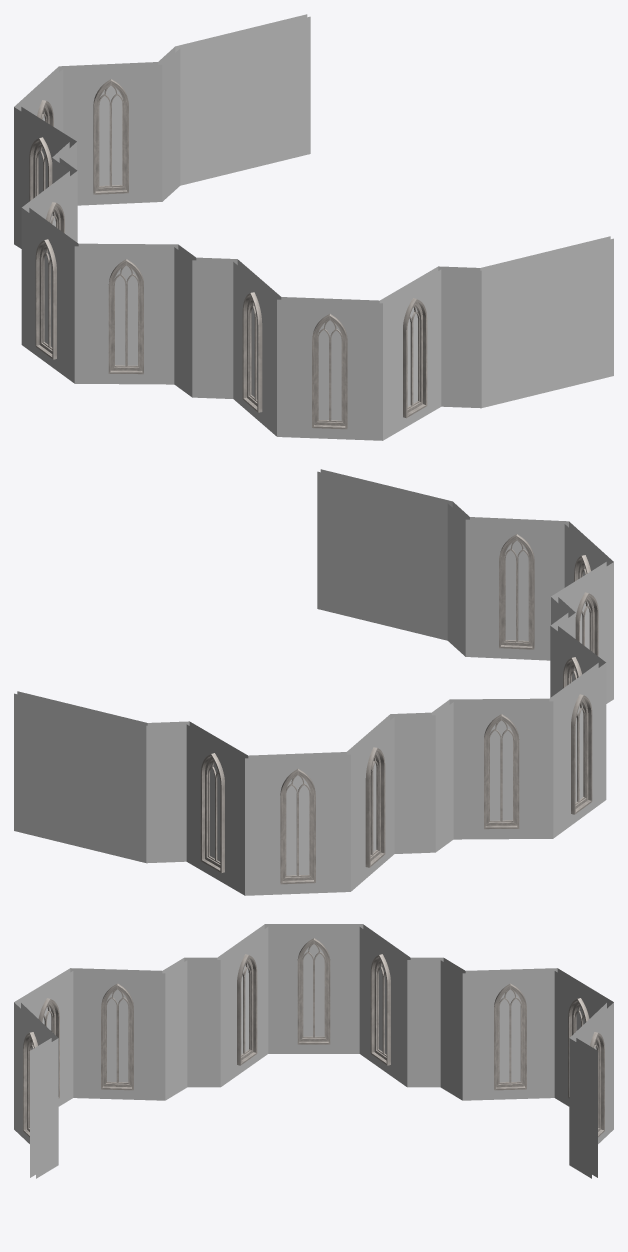
File: Ambulatory_Outer_E_B.fbx
The picture shows the model from 3 angles, top to bottom: view 1: azimuth 30°, elevation 25°; view 2: azimuth 150°, elevation 25°; view 3: azimuth 270°, elevation 25°; orthographic projection. The views are drawn at different scales.
Parts seen in each view (by area): view 1: Ambulatory_Outer_E_B; view 2: Ambulatory_Outer_E_B; view 3: Ambulatory_Outer_E_B.
Part boxes in pixels (bbox=[...]): Ambulatory_Outer_E_B: bbox=[14, 14, 613, 440]; Ambulatory_Outer_E_B: bbox=[14, 469, 613, 895]; Ambulatory_Outer_E_B: bbox=[14, 924, 613, 1178].
Size of the model in its own units: 19.02 by 25.64 by 6.
